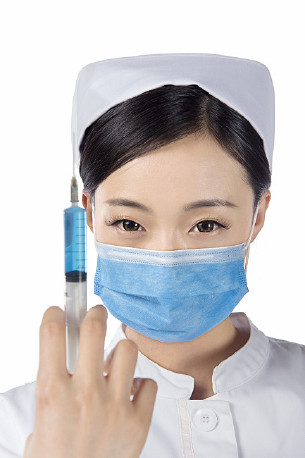face_mask: (92, 132, 247, 340)
